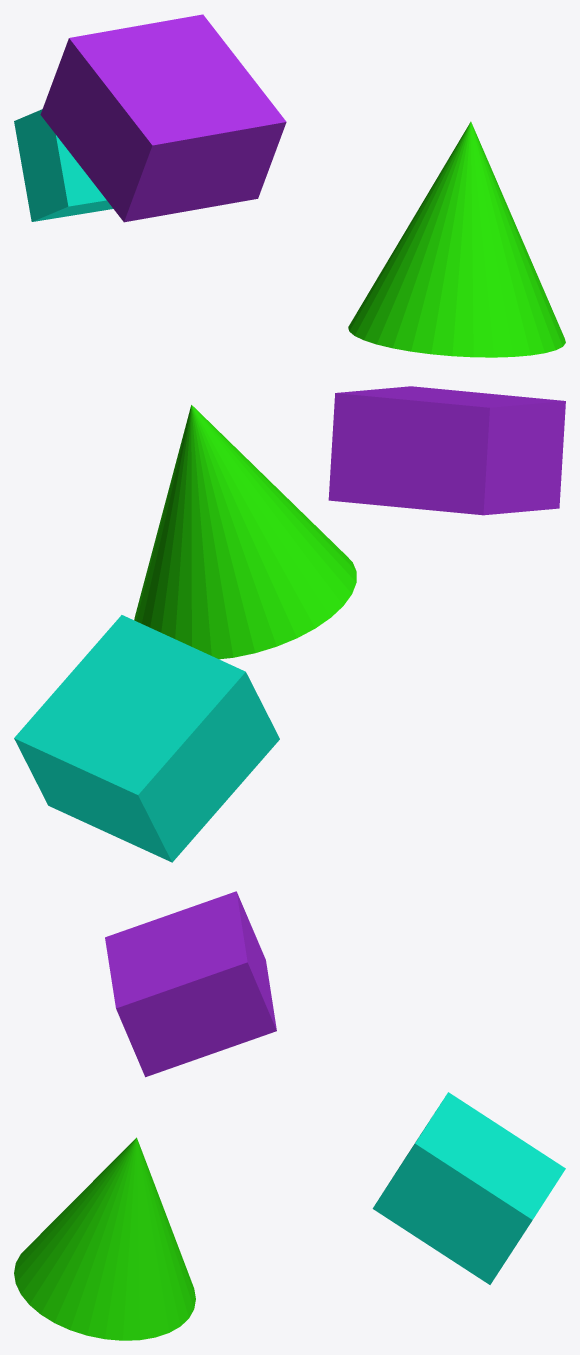
The model's file is Shapes.glb.
3 views of the same model, one above another, from view 1: azimuth 30°, elevation 25°; view 2: azimuth 150°, elevation 25°; view 3: azimuth 270°, elevation 25° (orthographic). The views are drawn at different scales.
Parts seen in each view (by area): view 1: Cube, Cone, Cube.001; view 2: Cube.001, Cone, Cube; view 3: Cone, Cube, Cube.001.
Part boxes in pixels (x1,y1,x2,y2): Cube: (40,14,286,222); Cone: (348,121,565,357); Cube.001: (14,109,113,221); Cube.001: (14,615,279,862); Cone: (134,405,356,659); Cube: (328,386,565,515); Cone: (14,1137,195,1340); Cube: (105,891,276,1077); Cube.001: (372,1092,565,1284).
Size of the model in its own units: 4.38 by 3.44 by 5.98.
